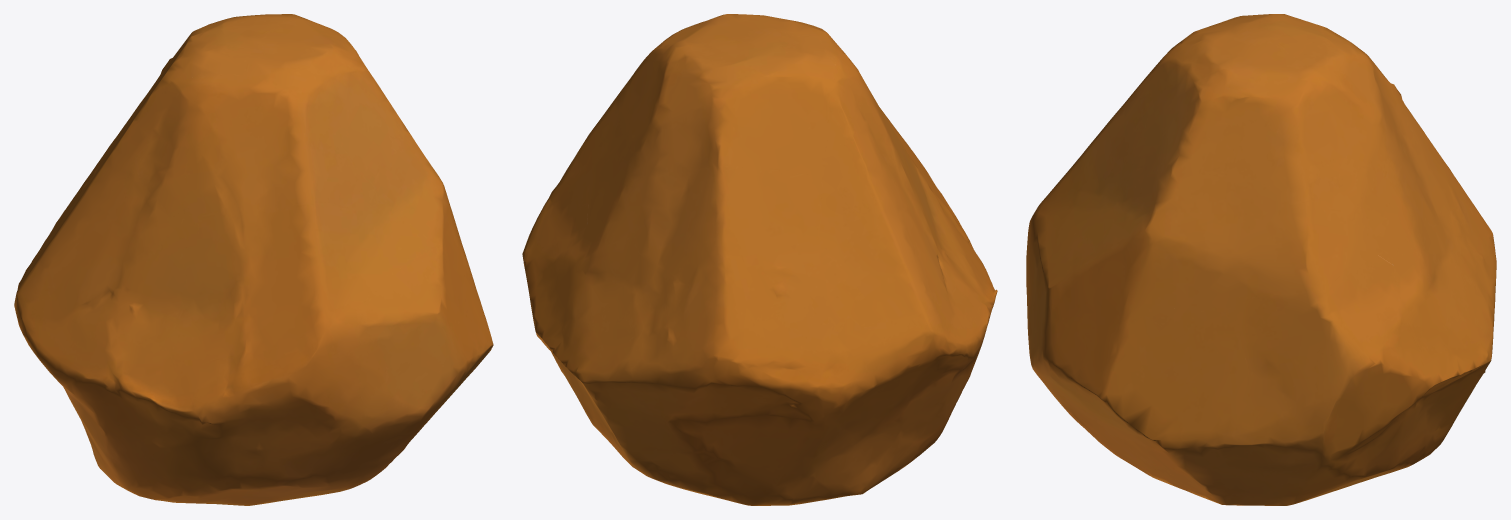
File: rock.fbx
3 views of the same model, side by side, from view 1: azimuth 30°, elevation 25°; view 2: azimuth 150°, elevation 25°; view 3: azimuth 270°, elevation 25° (orthographic). The views are drawn at different scales.
Parts seen in each view (by area): view 1: tripo_node_1fd0caac; view 2: tripo_node_1fd0caac; view 3: tripo_node_1fd0caac.
Part boxes in pixels (left/top/right/bottom): tripo_node_1fd0caac: left=14, top=14, right=493, bottom=505; tripo_node_1fd0caac: left=522, top=14, right=997, bottom=505; tripo_node_1fd0caac: left=1026, top=14, right=1496, bottom=505.
Bounding box in the file's own units: 1 × 0.9516 × 0.9639.
